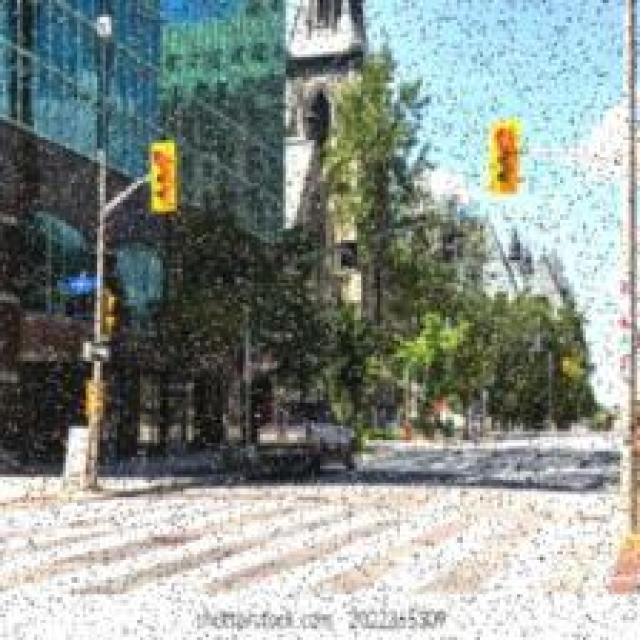walk-crossing: (10, 491, 624, 600)
